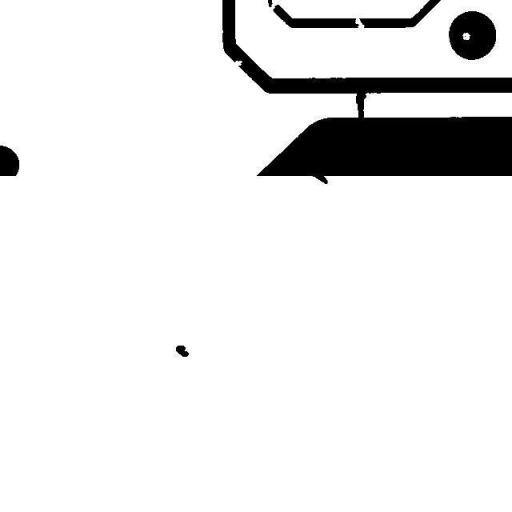copper: (170, 340, 194, 362)
mousebite: (227, 54, 249, 72)
open: (348, 9, 371, 35), (263, 0, 285, 15)
pin-hole: (455, 26, 477, 46)
short: (350, 85, 372, 124)
spur: (306, 164, 334, 190)
